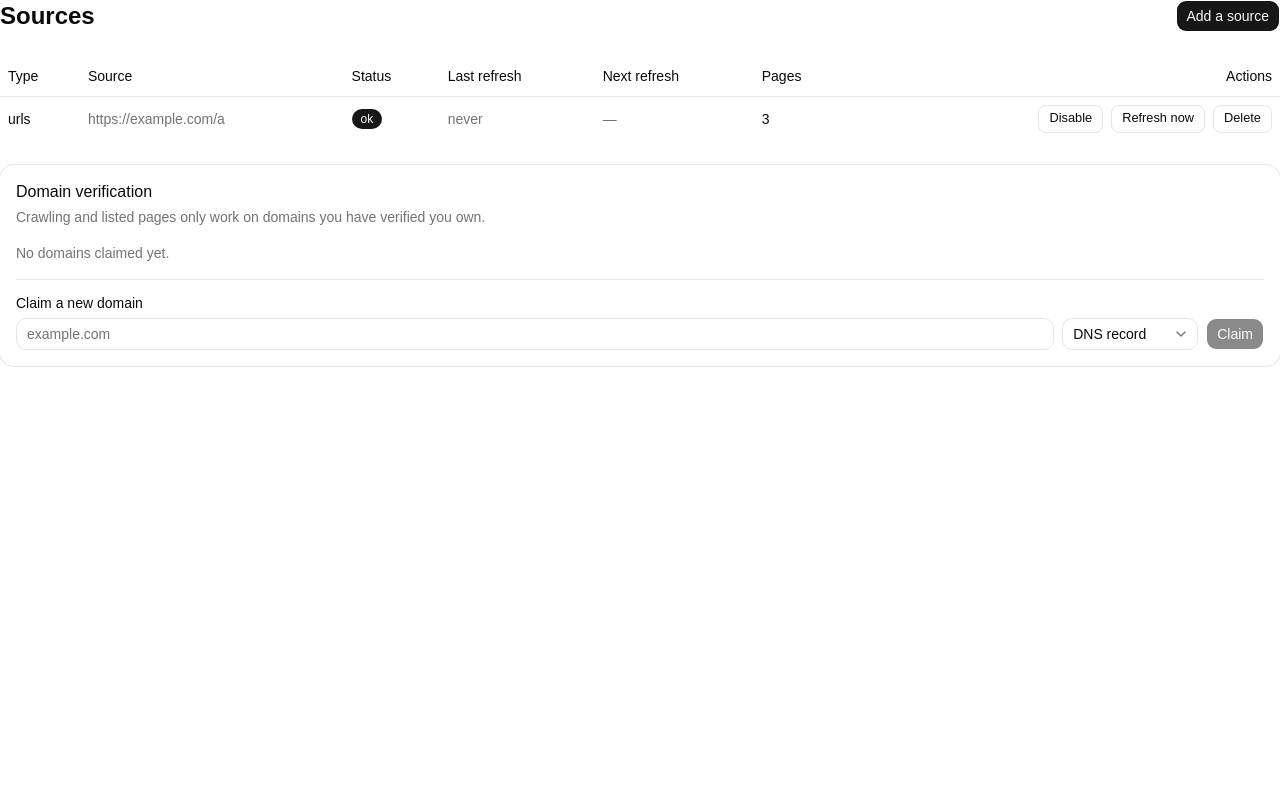
it: SourcesScreen › the delete confirmation names exactly what will be removed
The image size is (1280, 800).
Expected: the text "urls" is shown, [0,96,80,140]
Step 1. Click the button "Delete" → (1242, 118), box [1213,104,1272,132]
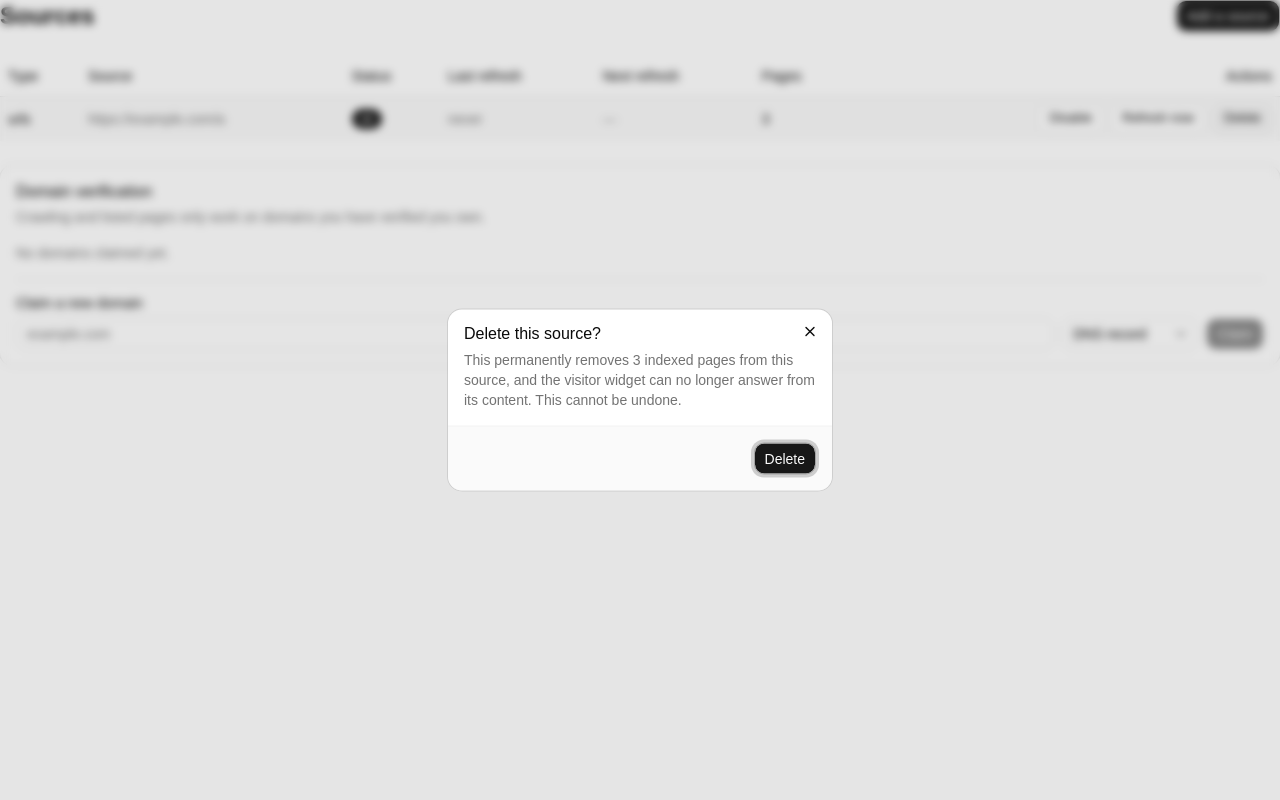
Expected: the text "permanently removes 3 indexed pages" is shown, [464,350,816,410]
